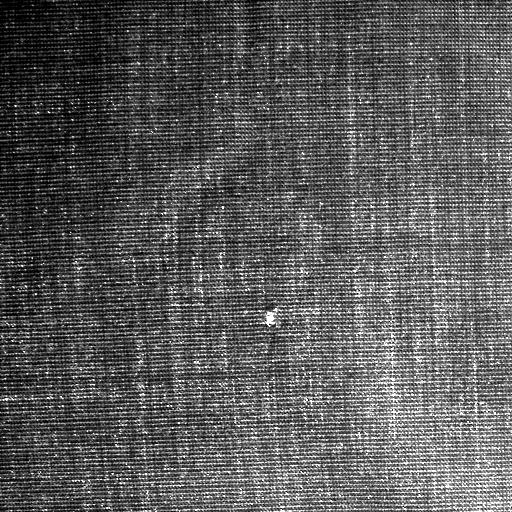fabric_hole: (260, 306, 302, 344)
